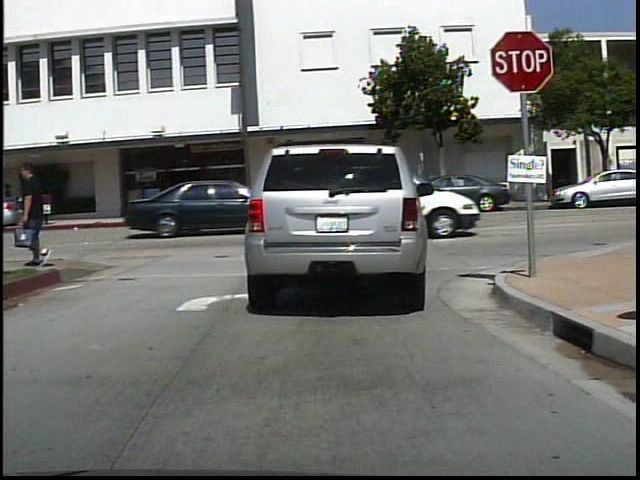person: (17, 161, 72, 270), (33, 179, 56, 226), (2, 177, 26, 222)
